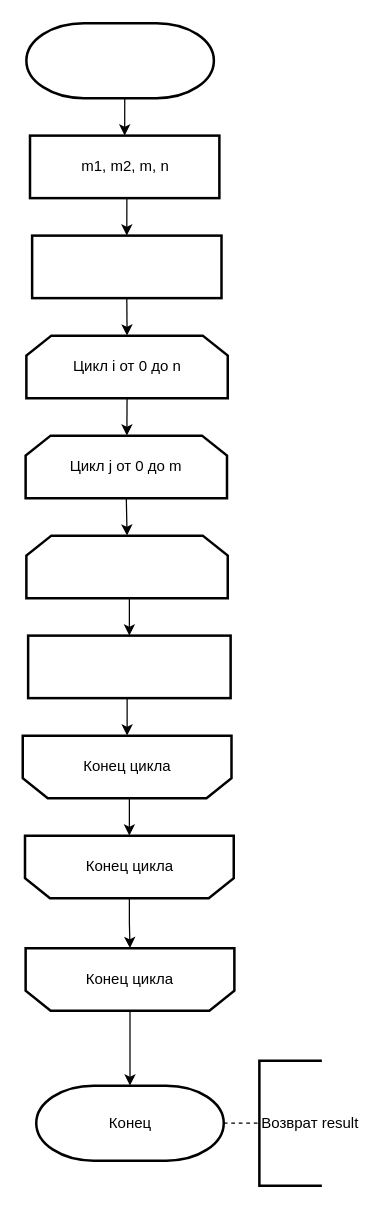
Image size: 381x1208. Some labels were removed from this diagram. The centre of each missing label's shape, as x and y in pixels:
result: pixel 126 266
result[i][j] = result[i][j] + m1[i][k] * m2[k][j]: pixel 128 666
Начало: pixel 119 60
Цикл k от 0 до m: pixel 126 566
